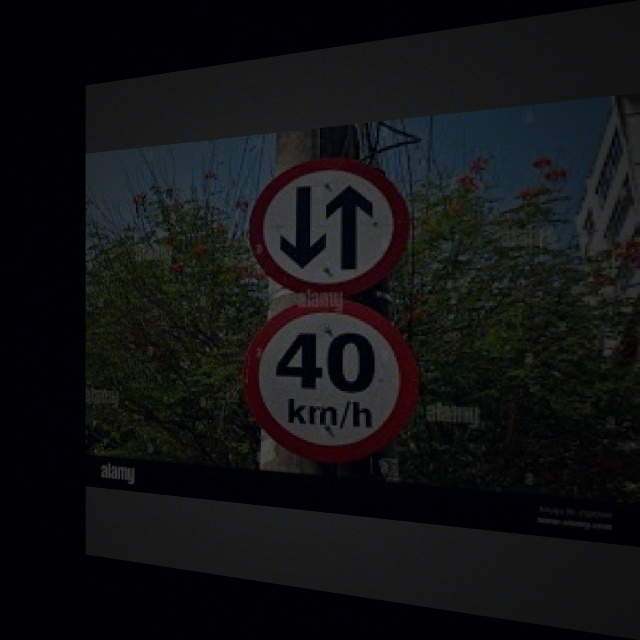Mandatory_Two_Way_Traffic: (252, 154, 407, 293)
